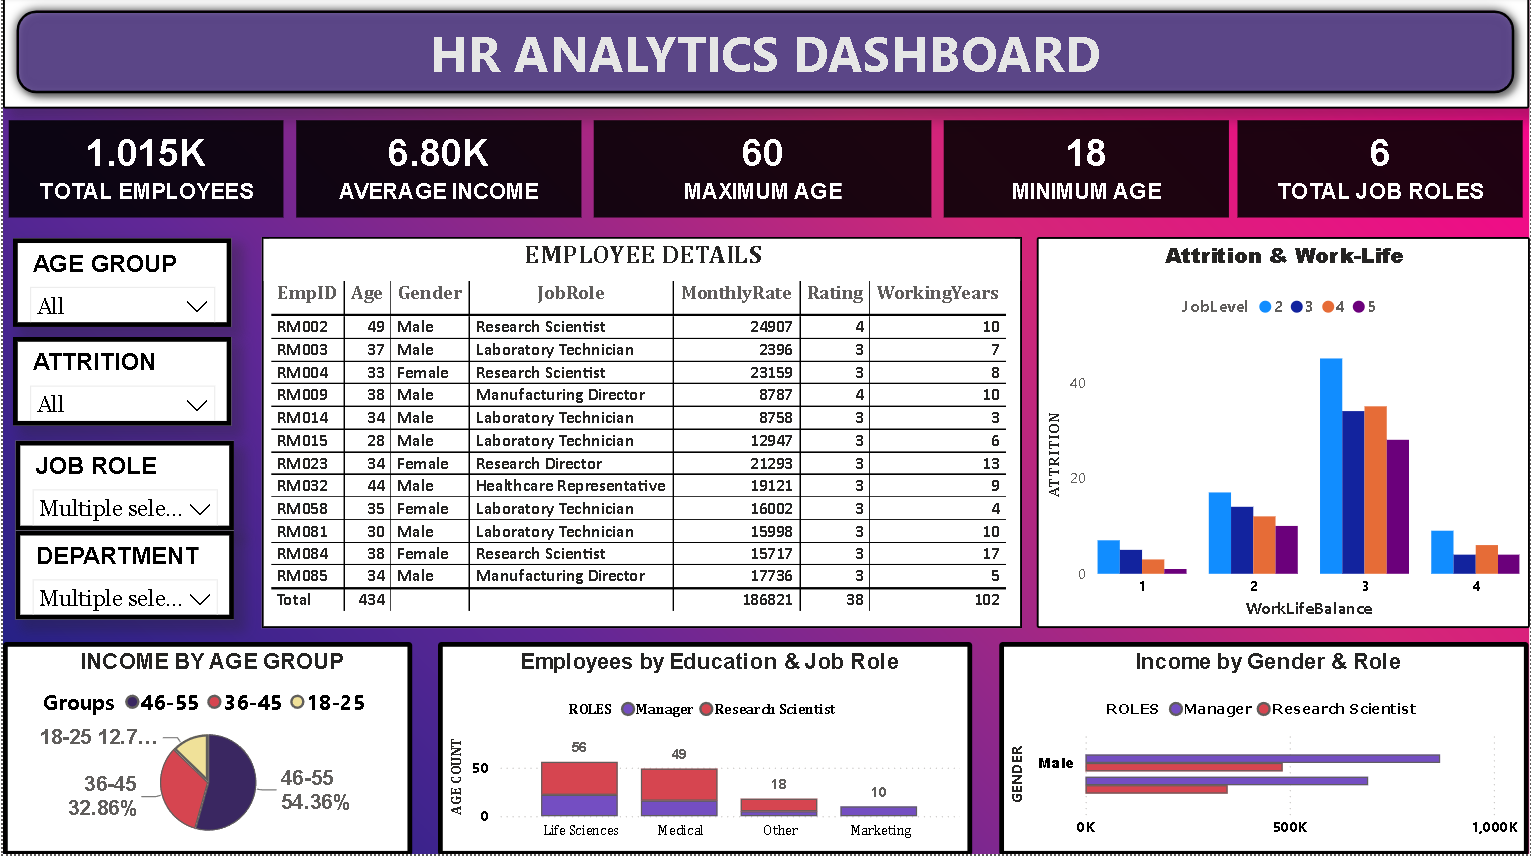

The page's visual inventory and layout, read from the dashboard file:
{"tool":"powerbi","page":{"name":"Page 1","canvas":[1280,720],"ordinal":0},"visuals":[{"type":"image","box":[0,0,1280,720.2],"z":0},{"type":"shape","box":[0,0,1280,93.3],"z":1000},{"type":"cardVisual","fields":{"Data":["CountNonNull(HR_Analytics.EmpID)"]},"box":[0,98.3,240.9,91.1],"z":2000},{"type":"pieChart","title":"INCOME BY AGE GROUP","fields":{"Category":["HR_Analytics.AgeGroup"],"Y":["Avg(HR_Analytics.MonthlyIncome)"]},"box":[0,541,343.4,178.9],"z":3000},{"type":"cardVisual","fields":{"Data":["Avg(HR_Analytics.MonthlyIncome)"]},"box":[240.9,98.3,249.3,91.1],"z":4000},{"type":"cardVisual","fields":{"Data":["Max(HR_Analytics.Age)"]},"box":[490.2,98.3,293.6,91.1],"z":5000},{"type":"cardVisual","fields":{"Data":["Min(HR_Analytics.Age)"]},"box":[783.8,98.3,249.3,91.1],"z":6000},{"type":"cardVisual","fields":{"Data":["Count(HR_Analytics.JobRole)"]},"box":[1030.7,98.3,249.3,91.1],"z":7000},{"type":"columnChart","title":"Employees by Education & Job Role","fields":{"Category":["HR_Analytics.EducationField"],"Y":["Count(HR_Analytics.Age)"],"Series":["HR_Analytics.JobRole"]},"box":[364.8,540.9,447.6,179.3],"z":8000},{"type":"tableEx","title":"EMPLOYEE  DETAILS","fields":{"Values":["HR_Analytics.EmpID","Sum(HR_Analytics.Age)","HR_Analytics.Gender","HR_Analytics.JobRole","Sum(HR_Analytics.MonthlyRate)","Sum(HR_Analytics.PerformanceRating)","Sum(HR_Analytics.TotalWorkingYears)"]},"box":[216.9,201.3,637.6,328.4],"z":9000},{"type":"clusteredBarChart","title":"Income by Gender & Role","fields":{"Category":["HR_Analytics.Gender"],"Y":["Sum(HR_Analytics.MonthlyIncome)"],"Series":["HR_Analytics.JobRole"]},"box":[835.4,541,444.4,178.9],"z":10000},{"type":"lineClusteredColumnComboChart","title":"Attrition & Work-Life","fields":{"Category":["HR_Analytics.WorkLifeBalance"],"Y":["CountNonNull(HR_Analytics.Attrition)"],"Series":["HR_Analytics.JobLevel"]},"box":[866.5,201.3,413.5,328.4],"z":11000},{"type":"slicer","fields":{"Values":["HR_Analytics.AgeGroup"]},"box":[8.4,202.5,183.4,74.3],"z":12000},{"type":"slicer","fields":{"Values":["HR_Analytics.Attrition"]},"box":[8.7,285.7,183.4,74.3],"z":13000},{"type":"slicer","fields":{"Values":["HR_Analytics.JobRole"]},"box":[10.1,372.2,183.4,74.3],"z":14000},{"type":"slicer","fields":{"Values":["HR_Analytics.Department"]},"box":[10.1,447.3,183.4,74.3],"z":15000}]}

Visuals, with their boxes in screenshot pixels (x1, y1, x2, y2), scaled from the page's 1280x720 canvas onto the 1531x857 screenshot:
image: [left=0, top=0, right=1530, bottom=856]
shape: [left=0, top=0, right=1530, bottom=111]
cardVisual - CountNonNull(HR_Analytics.EmpID): [left=0, top=117, right=288, bottom=225]
"INCOME BY AGE GROUP" pieChart: [left=0, top=644, right=411, bottom=856]
cardVisual - Avg(HR_Analytics.MonthlyIncome): [left=288, top=117, right=586, bottom=225]
cardVisual - Max(HR_Analytics.Age): [left=586, top=117, right=937, bottom=225]
cardVisual - Min(HR_Analytics.Age): [left=937, top=117, right=1236, bottom=225]
cardVisual - Count(HR_Analytics.JobRole): [left=1233, top=117, right=1530, bottom=225]
"Employees by Education & Job Role" columnChart: [left=436, top=644, right=972, bottom=856]
"EMPLOYEE  DETAILS" tableEx: [left=259, top=240, right=1022, bottom=630]
"Income by Gender & Role" clusteredBarChart: [left=999, top=644, right=1530, bottom=856]
"Attrition & Work-Life" lineClusteredColumnComboChart: [left=1036, top=240, right=1530, bottom=630]
slicer - HR_Analytics.AgeGroup: [left=10, top=241, right=229, bottom=329]
slicer - HR_Analytics.Attrition: [left=10, top=340, right=230, bottom=428]
slicer - HR_Analytics.JobRole: [left=12, top=443, right=231, bottom=531]
slicer - HR_Analytics.Department: [left=12, top=532, right=231, bottom=621]
